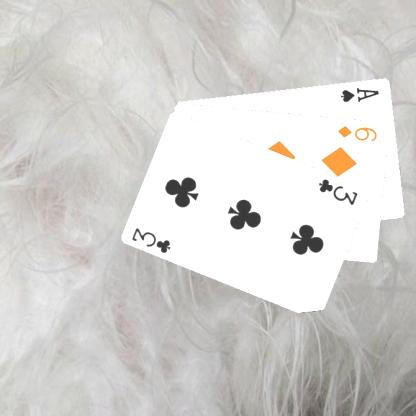3C: (316, 176, 360, 206), (129, 224, 173, 254)
6D: (335, 122, 379, 143)
AS: (338, 84, 380, 103)
